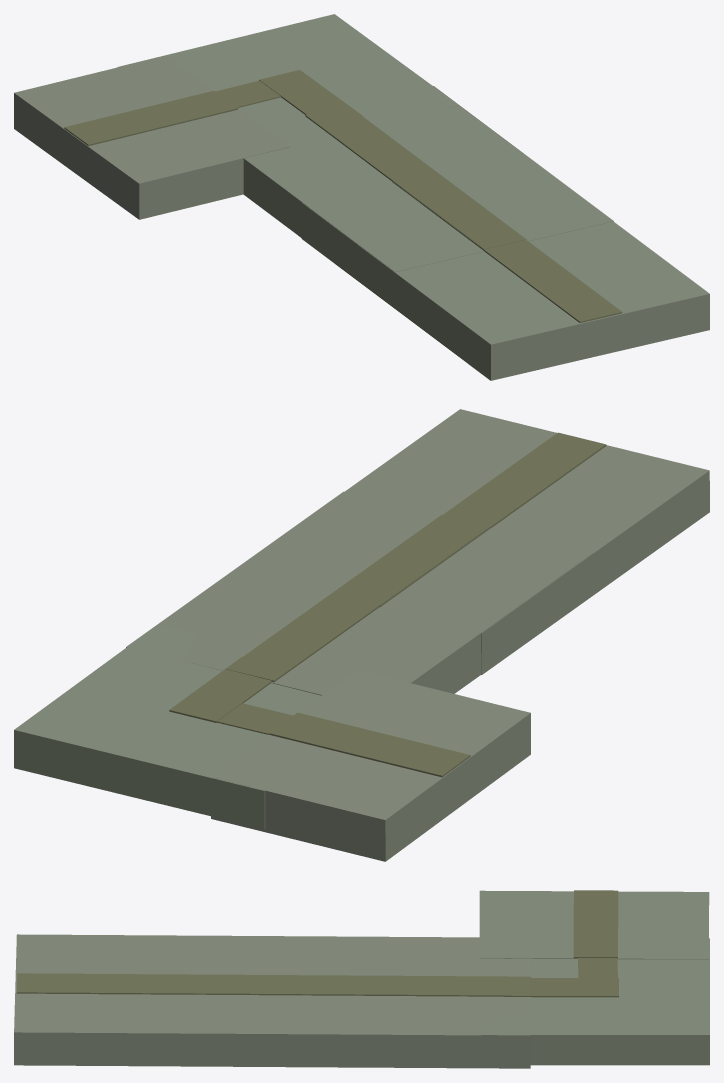
Rendered from RoadSegmentCurve.dae.
The picture shows the model from 3 angles, top to bottom: view 1: azimuth 30°, elevation 25°; view 2: azimuth 150°, elevation 25°; view 3: azimuth 270°, elevation 25°; orthographic projection. The views are drawn at different scales.
Visible parts, largest first — view 1: Cube_003, Cube_003_001, Cube_003_002, Cube, Cube_002, Cube_001; view 2: Cube_003, Cube_003_001, Cube_003_002, Cube, Cube_002, Cube_001; view 3: Cube_003, Cube_003_001, Cube, Cube_003_002, Cube_002, Cube_001.
Part boxes in pixels (x1,y1,x2,y2): Cube_003: (243,86,613,272); Cube_003_001: (301,181,709,380); Cube_003_002: (14,56,289,219); Cube: (118,14,458,125); Cube_002: (259,70,362,115); Cube_001: (216,80,280,107); Cube_003: (126,491,592,695); Cube_003_001: (345,409,709,674); Cube_003_002: (211,670,530,861); Cube: (14,624,320,829); Cube_002: (169,657,272,722); Cube_001: (217,703,293,734); Cube_003: (194,935,532,1068); Cube_003_001: (14,934,341,1067); Cube: (481,938,709,1065); Cube_003_002: (479,890,709,959); Cube_002: (504,978,618,997); Cube_001: (578,958,617,977).
Bounding box in the file's own units: 16.88 × 34.53 × 1.94.
